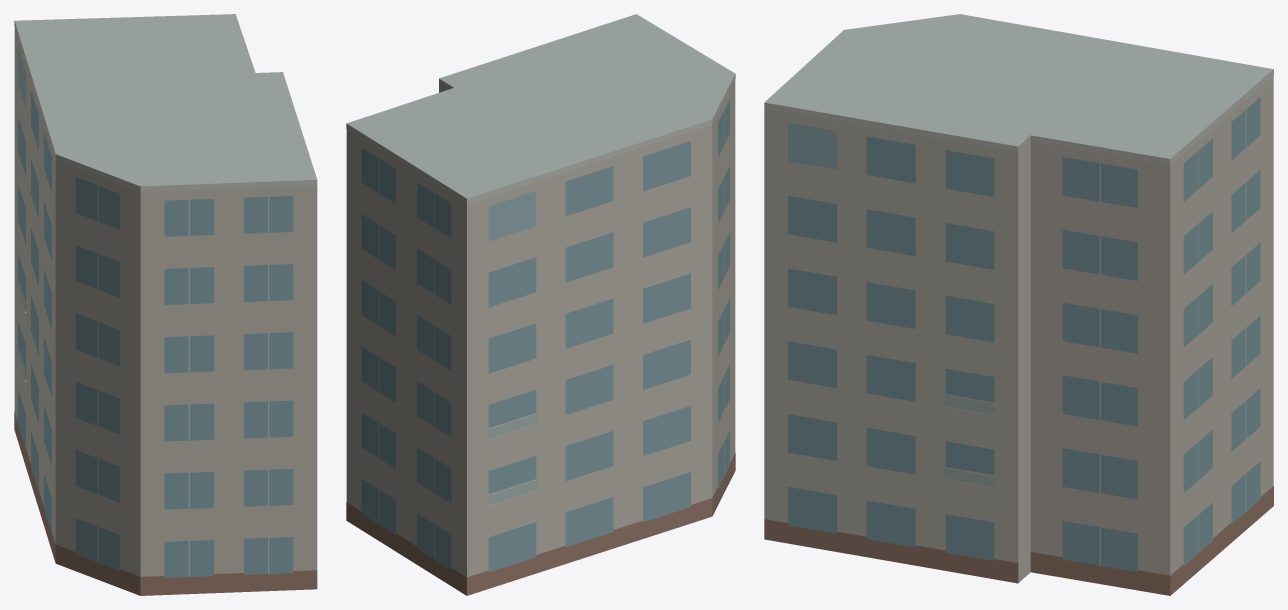
The model's file is survey-upis-32989480.glb.
3 views of the same model, side by side, from view 1: azimuth 30°, elevation 25°; view 2: azimuth 150°, elevation 25°; view 3: azimuth 270°, elevation 25° (orthographic). The views are drawn at different scales.
Visible parts, largest first — view 1: survey-upis-32989480.tmp; view 2: survey-upis-32989480.tmp; view 3: survey-upis-32989480.tmp.
Part boxes in pixels (bbox=[...]): survey-upis-32989480.tmp: bbox=[14, 14, 317, 595]; survey-upis-32989480.tmp: bbox=[346, 14, 735, 595]; survey-upis-32989480.tmp: bbox=[764, 14, 1273, 595].
Size of the model in its own units: 12.54 by 17.6 by 18.61.
